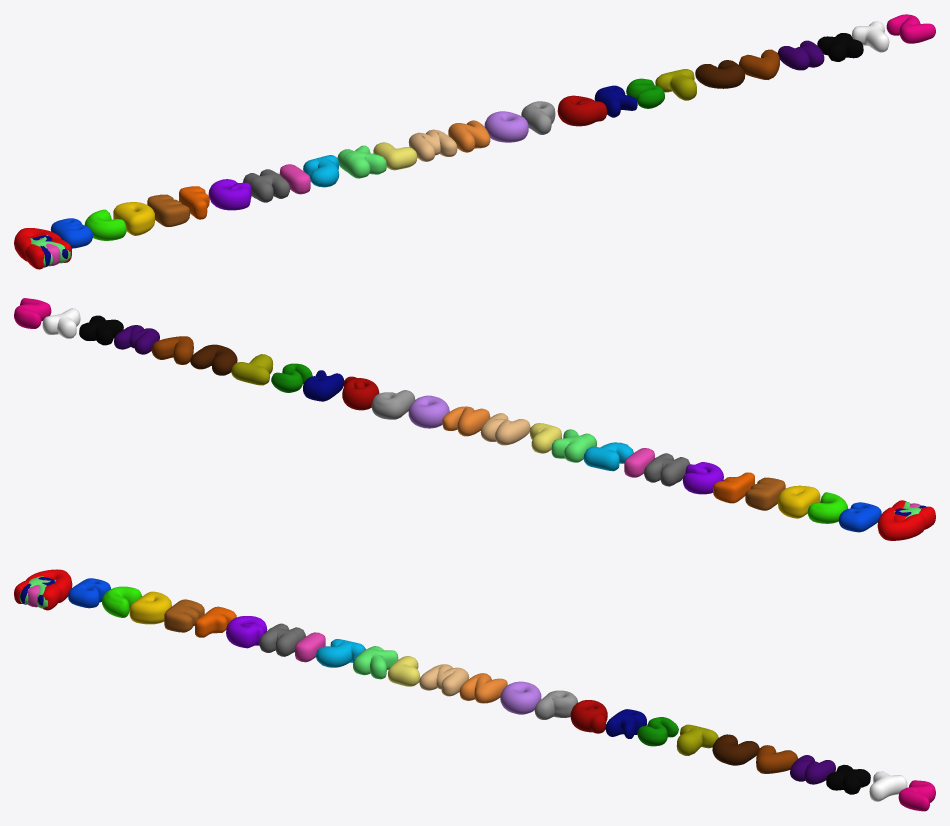
Rendered from letters.glb.
The picture shows the model from 3 angles, top to bottom: view 1: azimuth 30°, elevation 25°; view 2: azimuth 150°, elevation 25°; view 3: azimuth 330°, elevation 25°; orthographic projection.
Parts seen in each view (by area): view 1: Q.001, K.002, O.001, G.001, U.001, M.001, H.001, D.001, Z.001, W.001, E.001, N.001 (+15 smaller); view 2: M.001, A.002, H.001, D.001, O.001, N.001, U.001, J.001, G.001, K.002, P.001, Q.001 (+14 smaller); view 3: M.001, O.001, D.001, U.001, N.001, G.001, K.002, H.001, Q.001, E.001, J.001, W.001 (+15 smaller).
Part boxes in pixels (left/top/right/bottom): Q.001: left=557, top=95, right=607, bottom=126; K.002: left=337, top=145, right=386, bottom=178; O.001: left=484, top=111, right=528, bottom=142; G.001: left=208, top=179, right=251, bottom=210; U.001: left=695, top=60, right=745, bottom=88; M.001: left=408, top=129, right=457, bottom=161; H.001: left=243, top=169, right=290, bottom=202; D.001: left=113, top=202, right=154, bottom=235; Z.001: left=886, top=14, right=935, bottom=43; W.001: left=777, top=40, right=824, bottom=70; E.001: left=147, top=194, right=189, bottom=226; N.001: left=448, top=120, right=490, bottom=152; M.001: left=480, top=413, right=530, bottom=445; A.002: left=877, top=507, right=925, bottom=540; H.001: left=644, top=453, right=689, bottom=486; D.001: left=778, top=485, right=820, bottom=518; O.001: left=408, top=395, right=449, bottom=428; N.001: left=442, top=406, right=490, bottom=436; U.001: left=190, top=344, right=237, bottom=375; J.001: left=583, top=442, right=633, bottom=471; G.001: left=682, top=462, right=723, bottom=494; K.002: left=551, top=429, right=596, bottom=462; P.001: left=371, top=390, right=415, bottom=419; Q.001: left=342, top=376, right=379, bottom=410; M.001: left=419, top=664, right=469, bottom=696; O.001: left=500, top=681, right=541, bottom=714; D.001: left=129, top=591, right=171, bottom=624; U.001: left=712, top=734, right=759, bottom=765; N.001: left=459, top=673, right=507, bottom=703; G.001: left=226, top=616, right=267, bottom=648; K.002: left=353, top=646, right=398, bottom=679; H.001: left=259, top=623, right=305, bottom=656; Q.001: left=570, top=700, right=607, bottom=733; E.001: left=164, top=599, right=204, bottom=632; J.001: left=316, top=639, right=365, bottom=667; W.001: left=790, top=755, right=835, bottom=784.
Bounding box in the file's own units: 23.12 × 0.5389 × 1.51.
